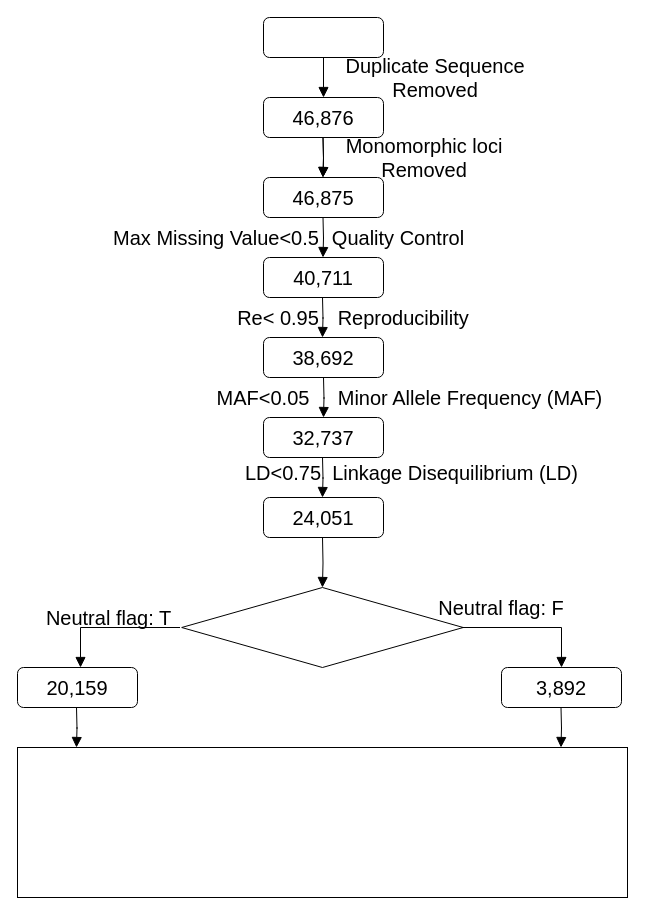
This 645x915 diagram has some shape labels left out. Each missing label, with the box of its shape:
Downstream Analysis: (16, 746, 628, 898)
Neutrality filters: (181, 586, 463, 668)
Total: 69,799: (262, 16, 384, 58)
